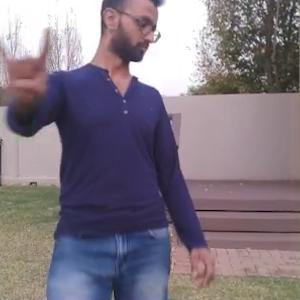takeoff-hand: (0, 23, 58, 114)
